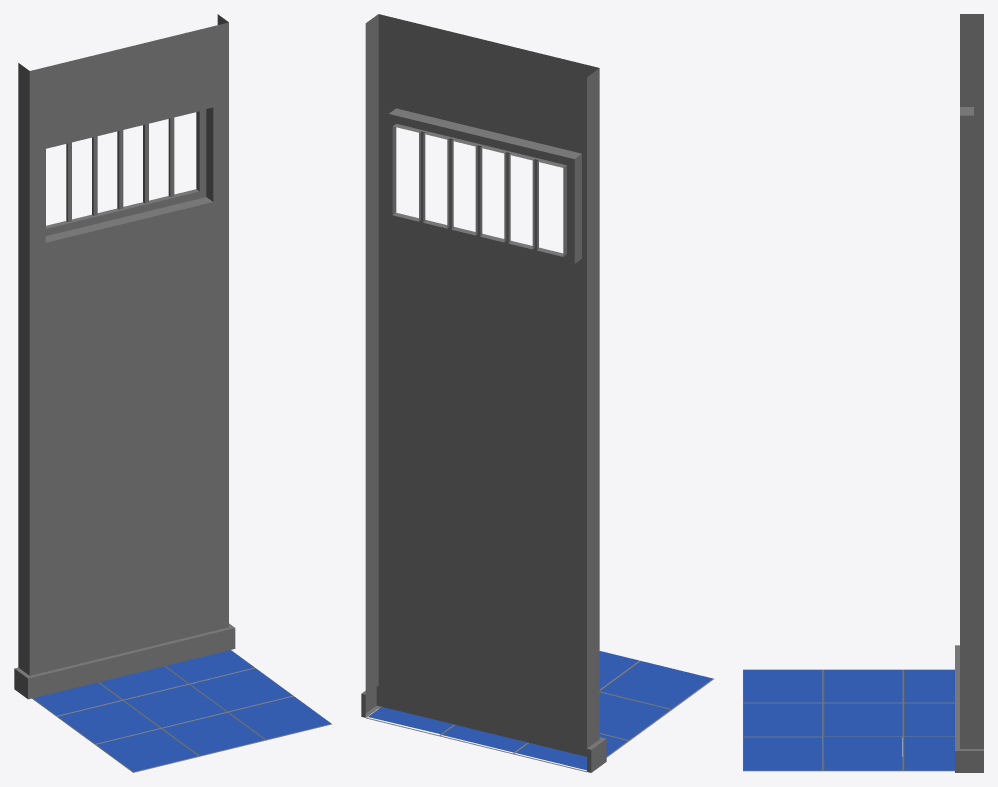
The model's file is pencereli.fbx.
3 renders of one model, left to right at view 1: azimuth 30°, elevation 25°; view 2: azimuth 150°, elevation 25°; view 3: azimuth 270°, elevation 25°, orthographic. The views are drawn at different scales.
Parts seen in each view (by area): view 1: pencereli, Plane005; view 2: pencereli, Plane005; view 3: pencereli, Plane005.
Boxes of the visible parts, <box> form: pencereli: <box>14,14,330,771</box>; Plane005: <box>32,650,331,772</box>; pencereli: <box>361,14,712,772</box>; Plane005: <box>366,660,713,772</box>; pencereli: <box>744,14,983,772</box>; Plane005: <box>743,669,954,771</box>.
Bounding box in the file's own units: 104 × 300 × 100.
